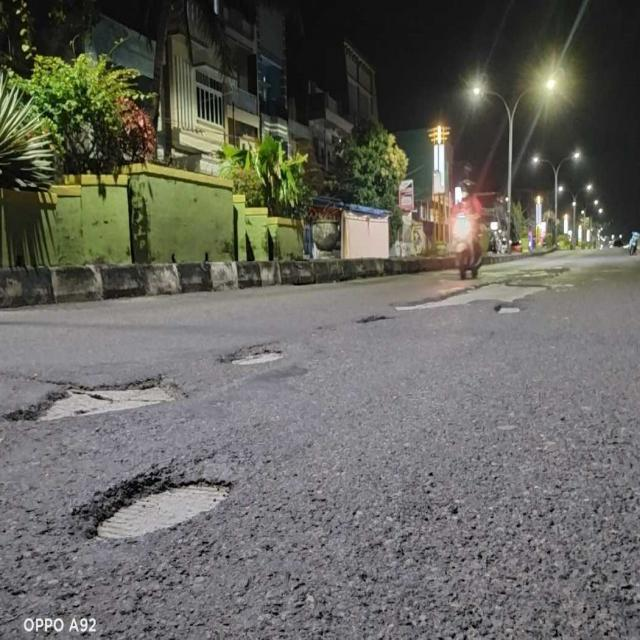potholes: (71, 454, 233, 548), (17, 358, 188, 420), (222, 329, 286, 376)
